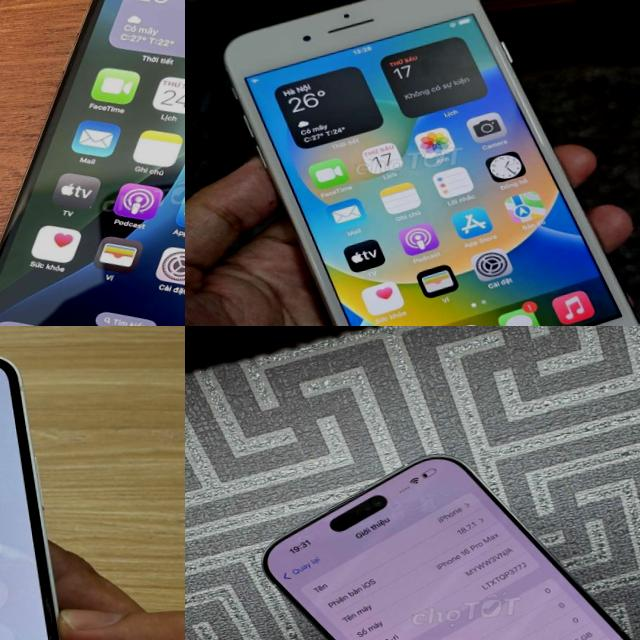gen_12_13: (0, 350, 87, 640)
gen_16: (263, 454, 630, 640)
gen_7_8: (221, 0, 640, 326)
gen_x_xs: (0, 0, 185, 326)
